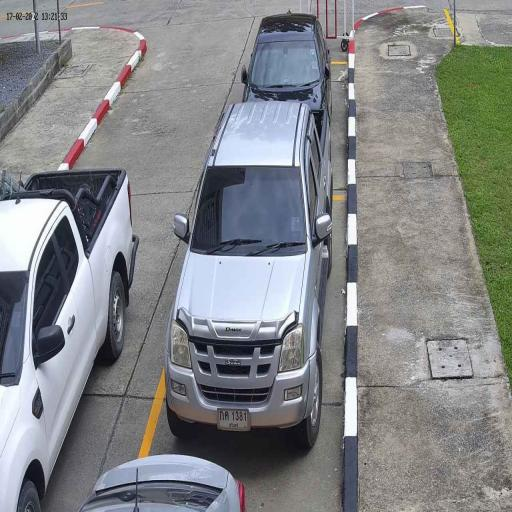car: (164, 100, 334, 452), (0, 166, 135, 512), (74, 452, 250, 512), (240, 9, 332, 108)
